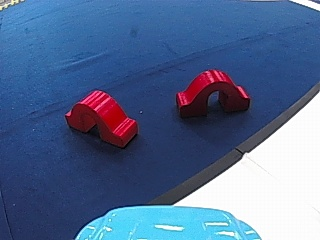bridge: (172, 64, 253, 119), (67, 88, 140, 148)
